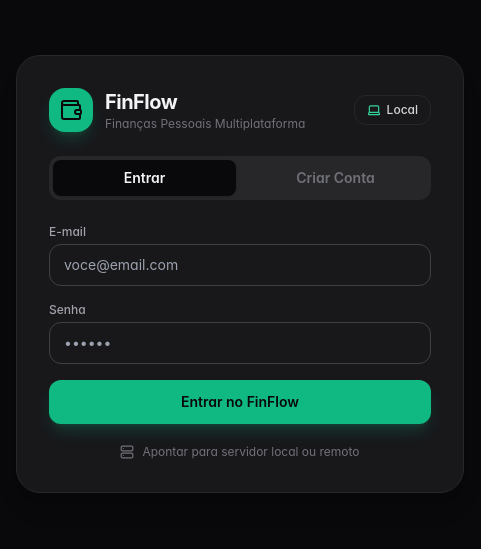
it: All FinFlow Pages Smoke & Interaction Tests › renders AuthPage and switches between login and register
The width and height of the screenshot is (481, 549).
Check: the button "Entrar no FinFlow" is shown, box left=49, top=380, right=431, bottom=424
Click the button "Criar Conta": click(336, 178) left=244, top=160, right=427, bottom=196
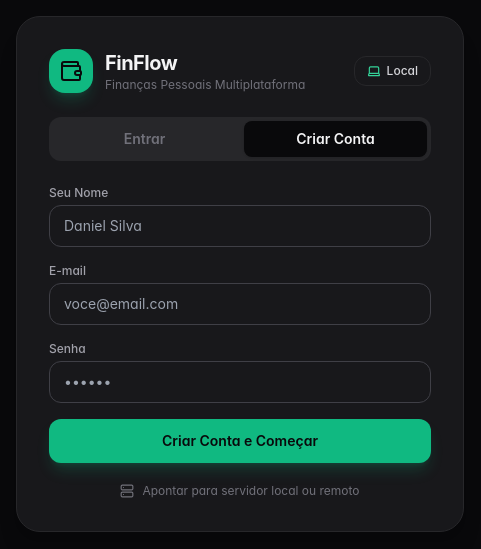
Check: the button "Criar Conta e Começar" is shown, box left=49, top=419, right=431, bottom=463
